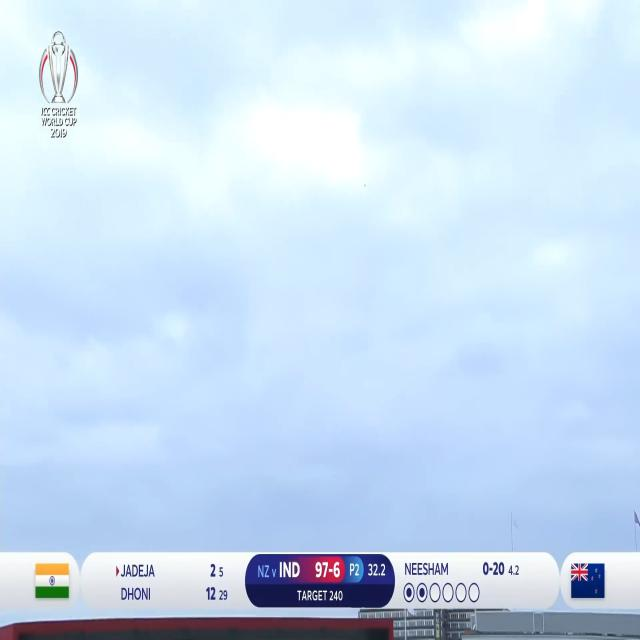ball: (362, 179, 368, 194)
